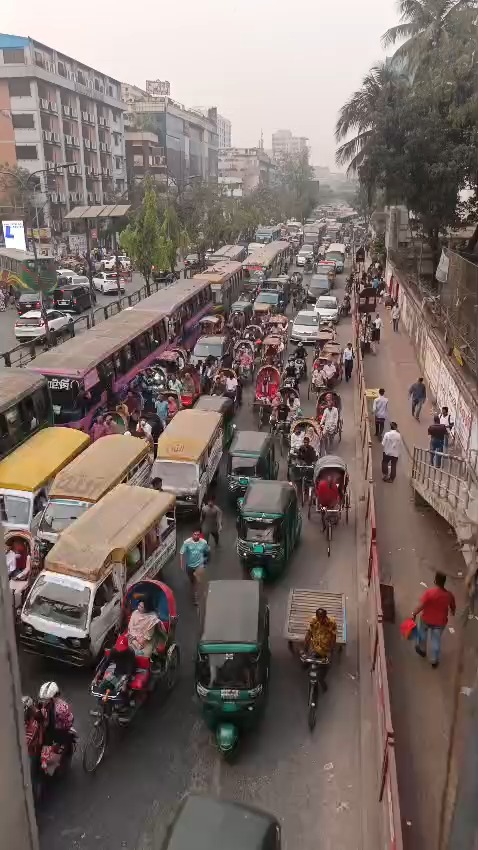Leguna: (0, 426, 177, 664), (148, 406, 229, 509)
cng: (197, 577, 272, 767), (234, 478, 304, 578), (231, 424, 279, 502)
private car: (51, 280, 98, 312), (289, 307, 322, 344), (315, 292, 342, 326)
